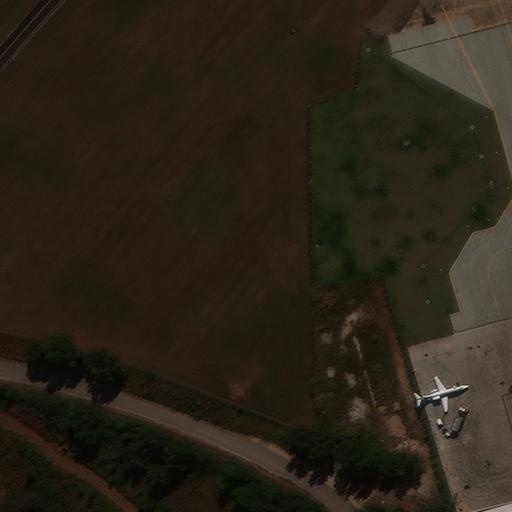Small Civil Transport: (417, 378, 467, 411)
